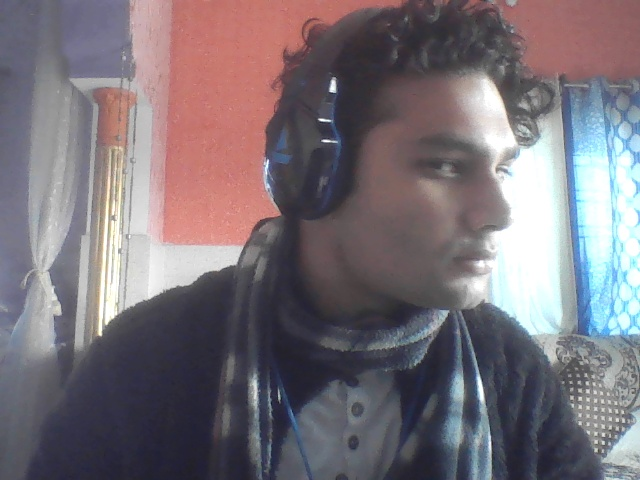real: (298, 0, 541, 345)
